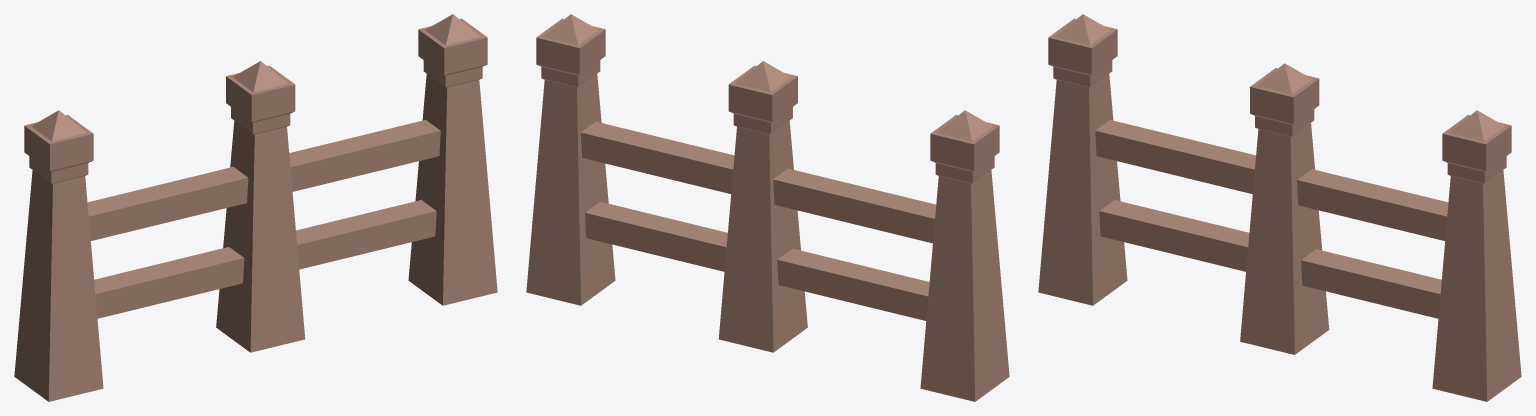
3 views of the same model, side by side, from view 1: azimuth 30°, elevation 25°; view 2: azimuth 150°, elevation 25°; view 3: azimuth 330°, elevation 25° (orthographic).
Parts seen in each view (by area): view 1: Fense_6; view 2: Fense_6; view 3: Fense_6.
Boxes of the visible parts, x1,y1,x2,y2 form: Fense_6: (14,14,497,401); Fense_6: (526,14,1009,401); Fense_6: (1038,14,1521,401).
Size of the model in its own units: 2.16 by 1.25 by 0.2874.
